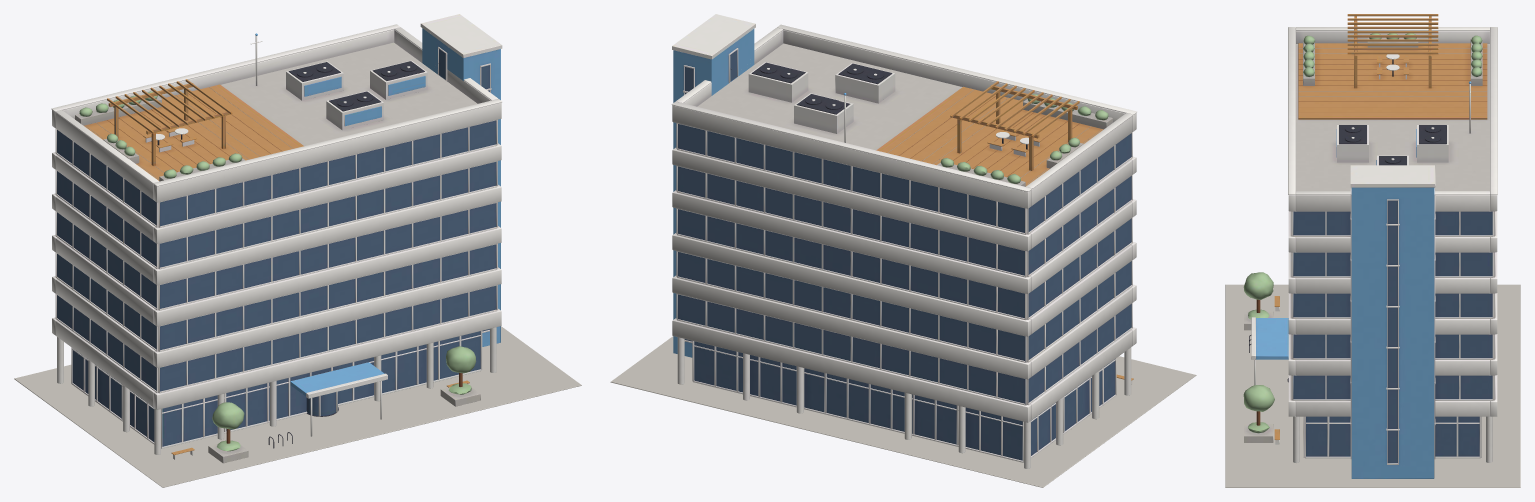
Rendered from office-building.glb.
The picture shows the model from 3 angles, left to right: view 1: azimuth 30°, elevation 25°; view 2: azimuth 150°, elevation 25°; view 3: azimuth 270°, elevation 25°; orthographic projection. The views are drawn at different scales.
Visible parts, largest first — view 1: office-building_facade, office-building_shell, office-building_body, office-building_ground_slab; view 2: office-building_facade, office-building_shell, office-building_body, office-building_ground_slab; view 3: office-building_facade, office-building_body, office-building_ground_slab, office-building_shell.
Part boxes in pixels (bbox=[...]): office-building_facade: bbox=[55, 14, 502, 393]; office-building_shell: bbox=[51, 24, 502, 409]; office-building_body: bbox=[57, 33, 496, 463]; office-building_ground_slab: bbox=[14, 326, 581, 487]; office-building_facade: bbox=[672, 14, 1132, 405]; office-building_shell: bbox=[671, 24, 1136, 422]; office-building_body: bbox=[677, 43, 1133, 468]; office-building_ground_slab: bbox=[610, 336, 1196, 487]; office-building_facade: bbox=[1290, 165, 1495, 478]; office-building_body: bbox=[1243, 14, 1492, 462]; office-building_ground_slab: bbox=[1225, 284, 1520, 487]; office-building_shell: bbox=[1288, 27, 1497, 416].
Bounding box in the file's own units: 36.1 × 25.61 × 22.2.
4 materials, 3 textured.
